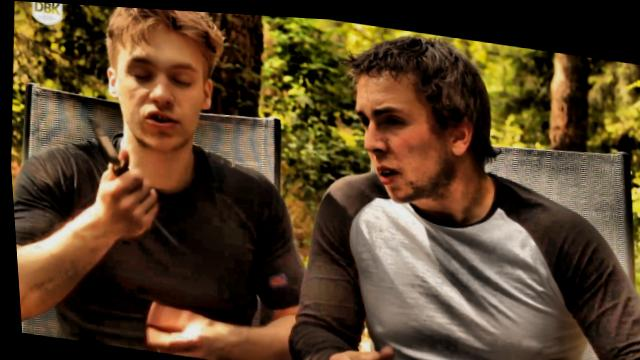knife: (72, 109, 172, 216)
